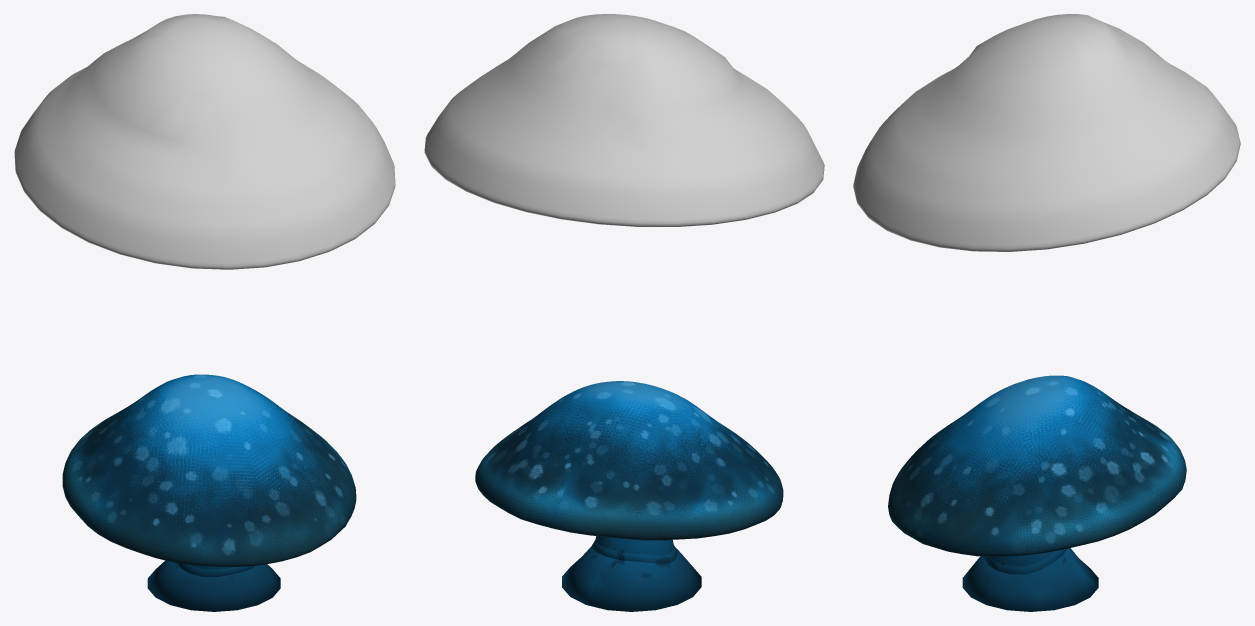
The model's file is shrum.FBX.
3 views of the same model, side by side, from view 1: azimuth 30°, elevation 25°; view 2: azimuth 150°, elevation 25°; view 3: azimuth 270°, elevation 25° (orthographic). The views are drawn at different scales.
Parts seen in each view (by area): view 1: Sphere003, Object001; view 2: Sphere003, Object001; view 3: Sphere003, Object001.
Part boxes in pixels (bbox=[...]): Sphere003: bbox=[14, 14, 395, 269]; Object001: bbox=[62, 374, 356, 611]; Sphere003: bbox=[424, 14, 824, 226]; Object001: bbox=[475, 381, 783, 611]; Sphere003: bbox=[853, 14, 1240, 251]; Object001: bbox=[888, 375, 1186, 611].
Size of the model in its own units: 1523 by 2389 by 1512.
2 materials, 1 textured.
